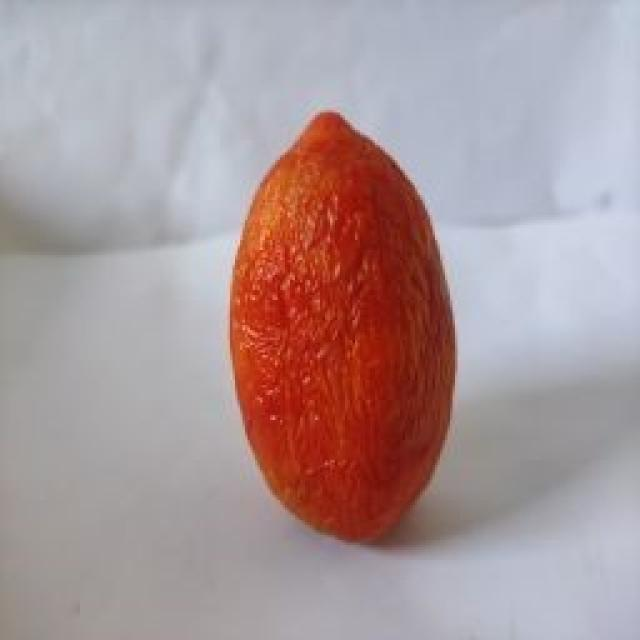overripe: (227, 102, 464, 548)
